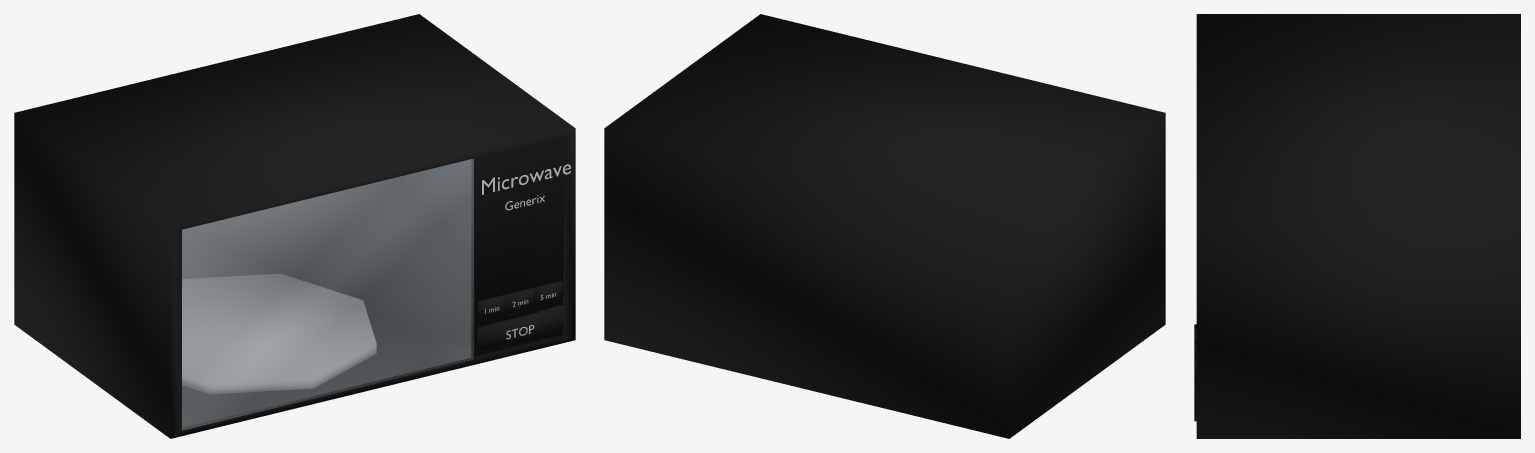
File: Microwave.glb
3 views of the same model, side by side, from view 1: azimuth 30°, elevation 25°; view 2: azimuth 150°, elevation 25°; view 3: azimuth 270°, elevation 25° (orthographic). The views are drawn at different scales.
Parts seen in each view (by area): view 1: Microwave; view 2: Microwave; view 3: Microwave.
Part boxes in pixels (x1,y1,x2,y2): Microwave: (14, 14, 575, 438); Microwave: (604, 14, 1165, 438); Microwave: (1194, 14, 1520, 438).
Bounding box in the file's own units: 15.84 × 7.92 × 10.67.
